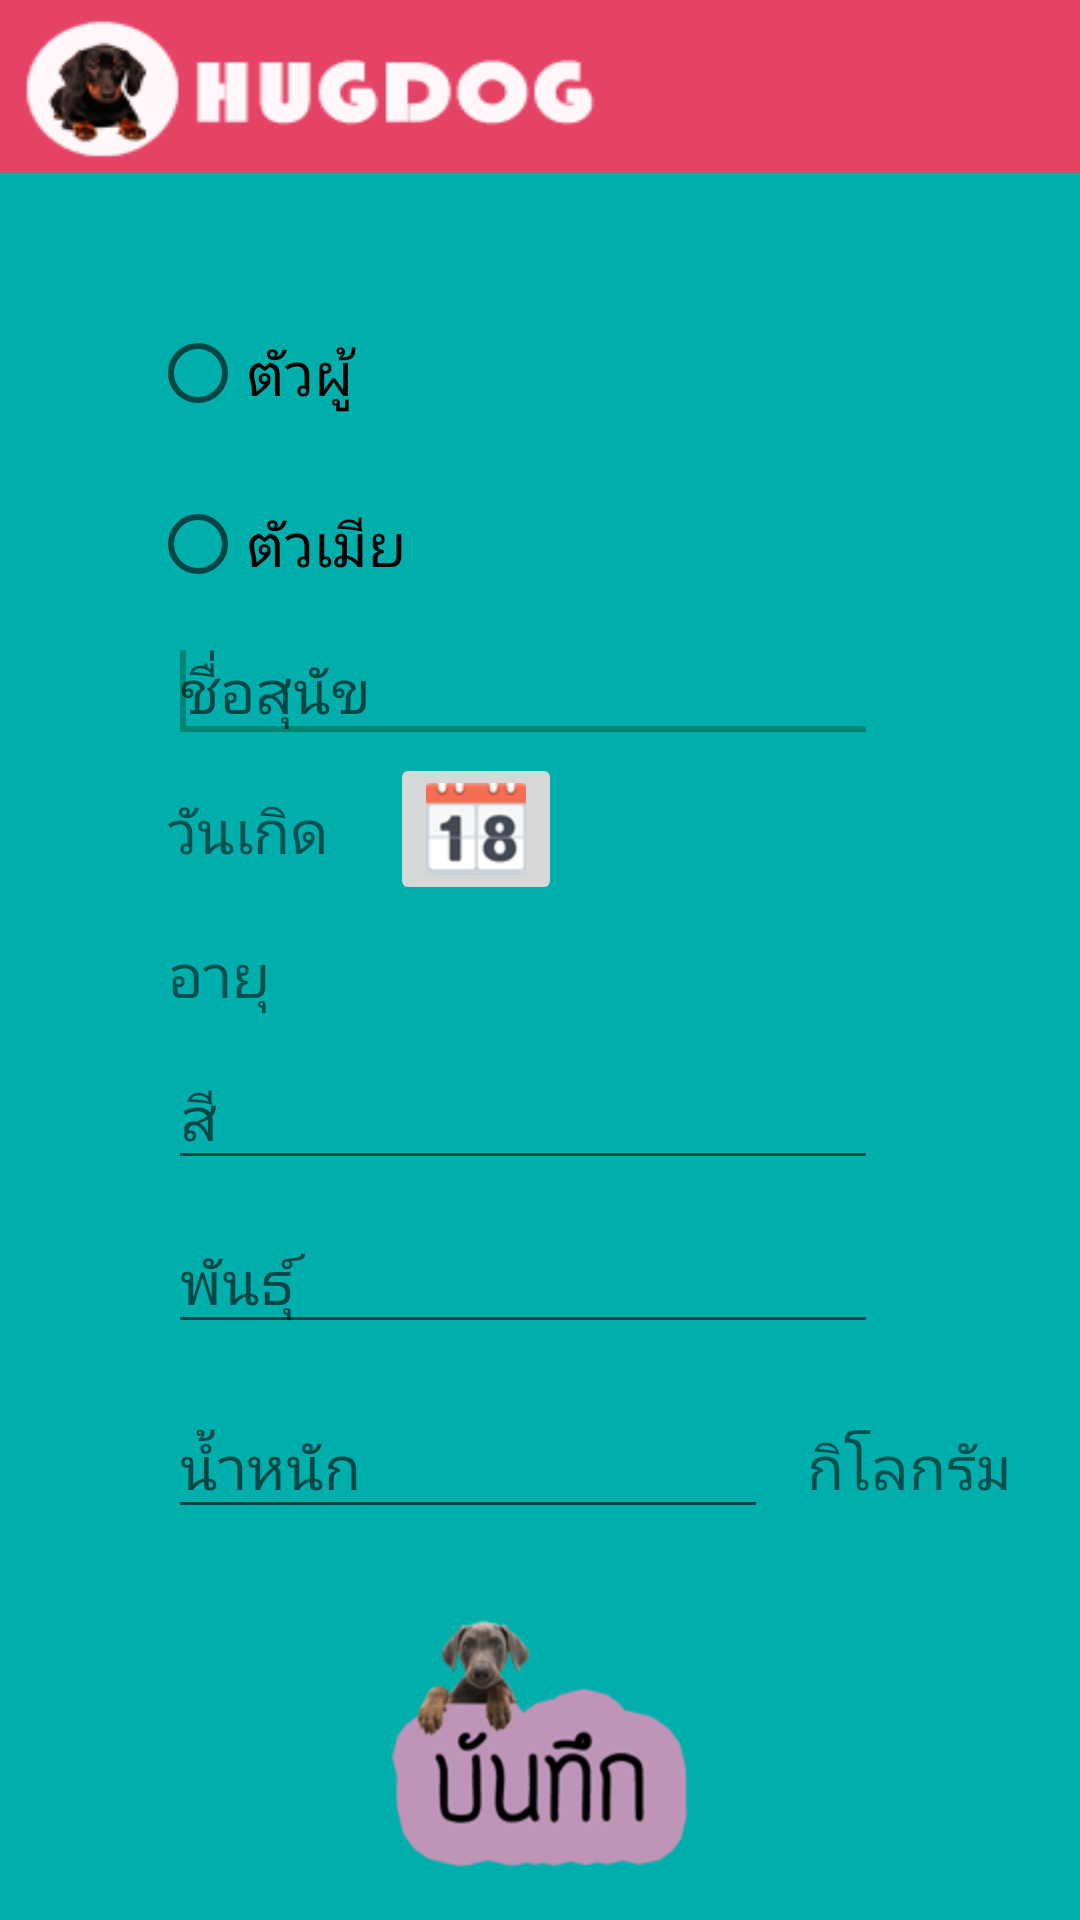

Icon click points for this 1080px×1920px phone screenshot, format point (x, y):
calendar: point (476, 829)
